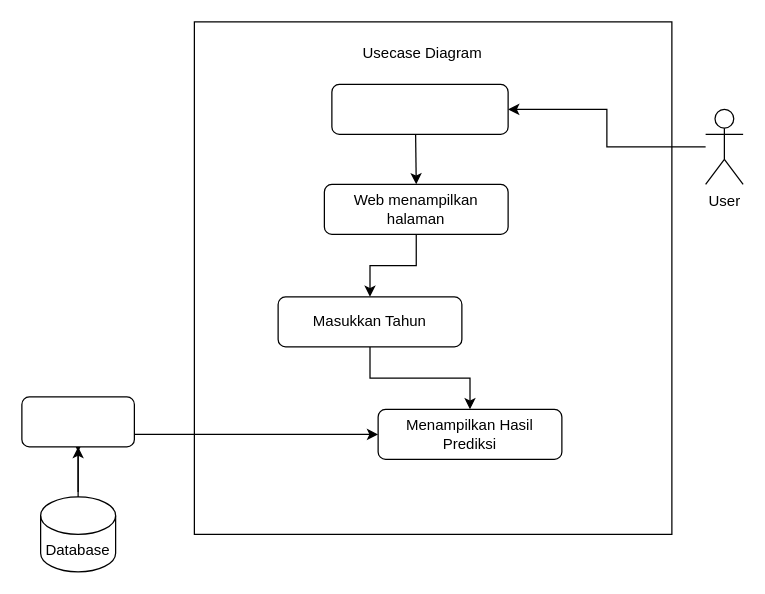
Some shapes in this 765 by 594 pixel diagram are drawn without their labels. The shapes that lost their labels are listed below. From the top down, each one's centre as x and y in pixels, then its label:
[419,108]: User membuka web UAS DWH
[77,421]: import ke csv
